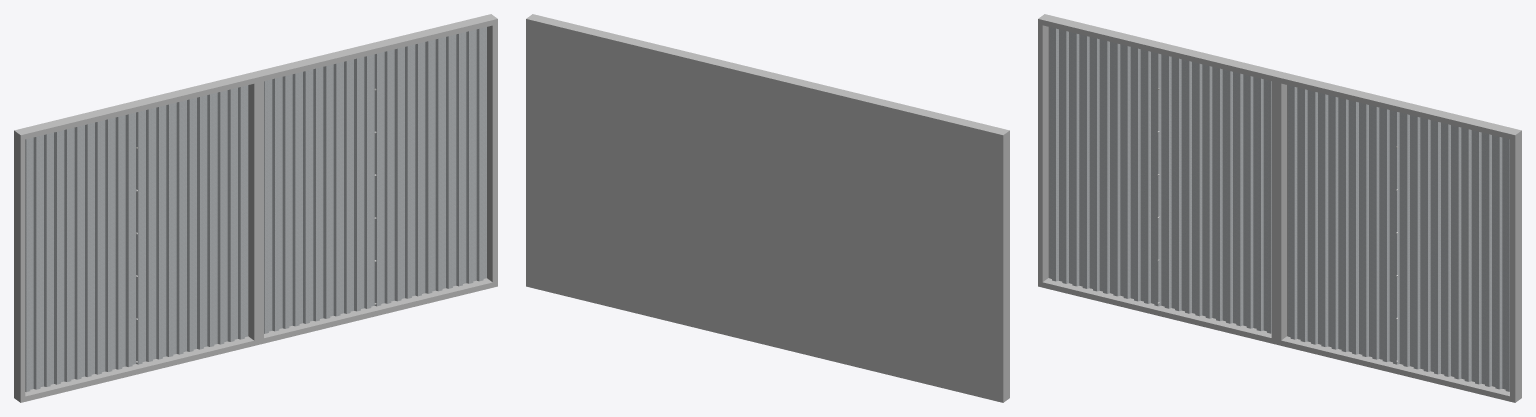
3 views of the same model, side by side, from view 1: azimuth 30°, elevation 25°; view 2: azimuth 150°, elevation 25°; view 3: azimuth 330°, elevation 25° (orthographic).
Parts seen in each view (by area): view 1: Component_9 (×4), Component_11 (×4), group_0 (×2), group_1 (×2), Component_12; view 2: Component_12 (×2), group_0 (×2), Component_11; view 3: Component_9 (×4), Component_11 (×4), group_0 (×2), group_1 (×2), Component_12 (×2).
Boxes of the visible parts, left/top/right/bottom form: Component_9 (×4): left=25, top=27, right=486, bottom=391; Component_11 (×4): left=14, top=14, right=497, bottom=397; group_0 (×2): left=19, top=16, right=492, bottom=139; group_1 (×2): left=14, top=278, right=492, bottom=402; Component_12: left=14, top=72, right=252, bottom=398; Component_12 (×2): left=526, top=18, right=1003, bottom=402; group_0 (×2): left=532, top=15, right=1004, bottom=133; Component_11: left=1000, top=129, right=1009, bottom=396; Component_9 (×4): left=1049, top=27, right=1509, bottom=391; Component_11 (×4): left=1038, top=14, right=1521, bottom=402; group_0 (×2): left=1042, top=15, right=1515, bottom=139; group_1 (×2): left=1038, top=278, right=1509, bottom=401; Component_12 (×2): left=1044, top=14, right=1521, bottom=398.
Bounding box in the file's own units: 187 × 4.5 × 100.
